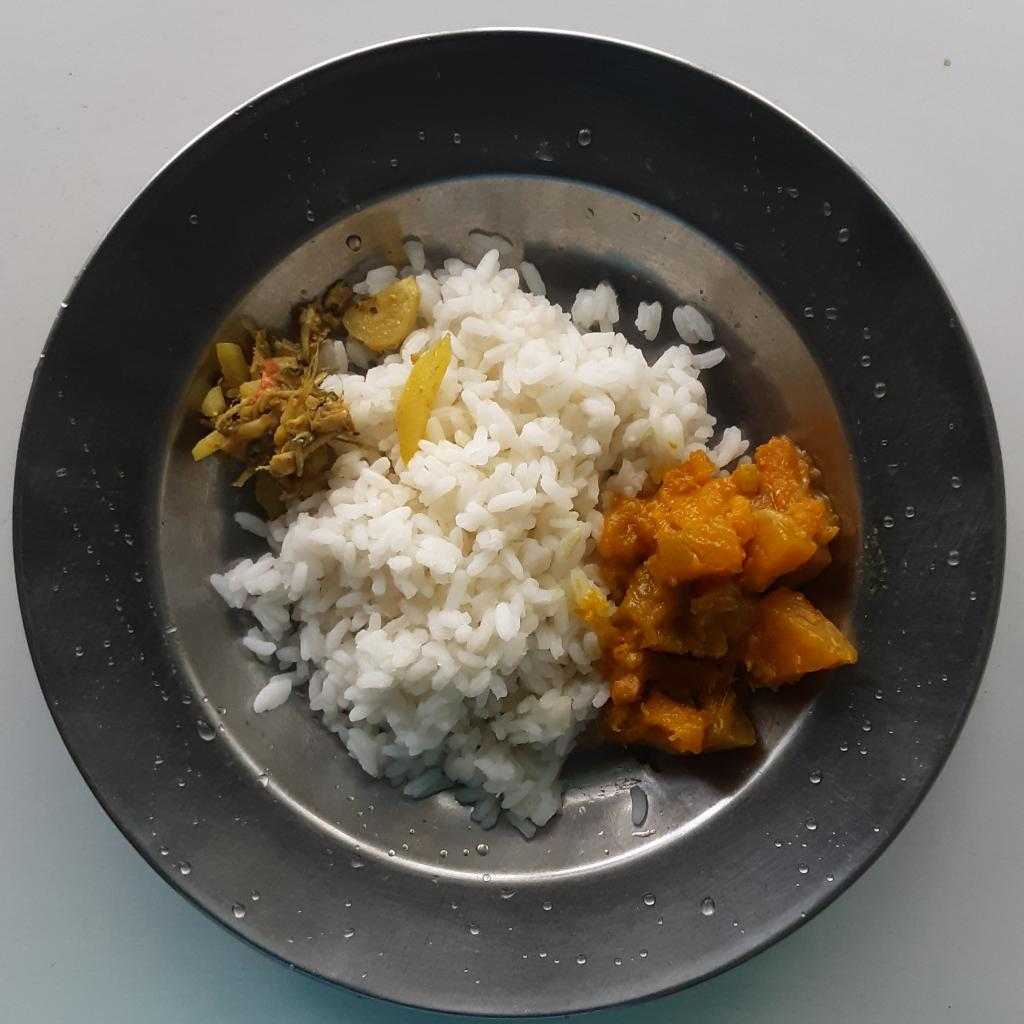khichuri: (186, 272, 354, 513)
kumra-vaji: (591, 439, 859, 751)
rice: (211, 224, 746, 835)
